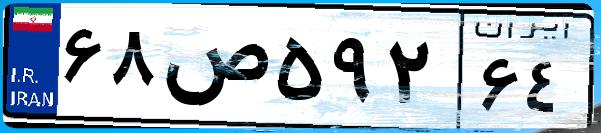2: (385, 28, 445, 110)
4: (525, 38, 570, 115)
5: (270, 28, 330, 110)
6: (57, 26, 110, 100), (475, 38, 525, 113)
8: (110, 28, 158, 98)
9: (330, 28, 385, 110)
ص: (158, 20, 270, 120)
